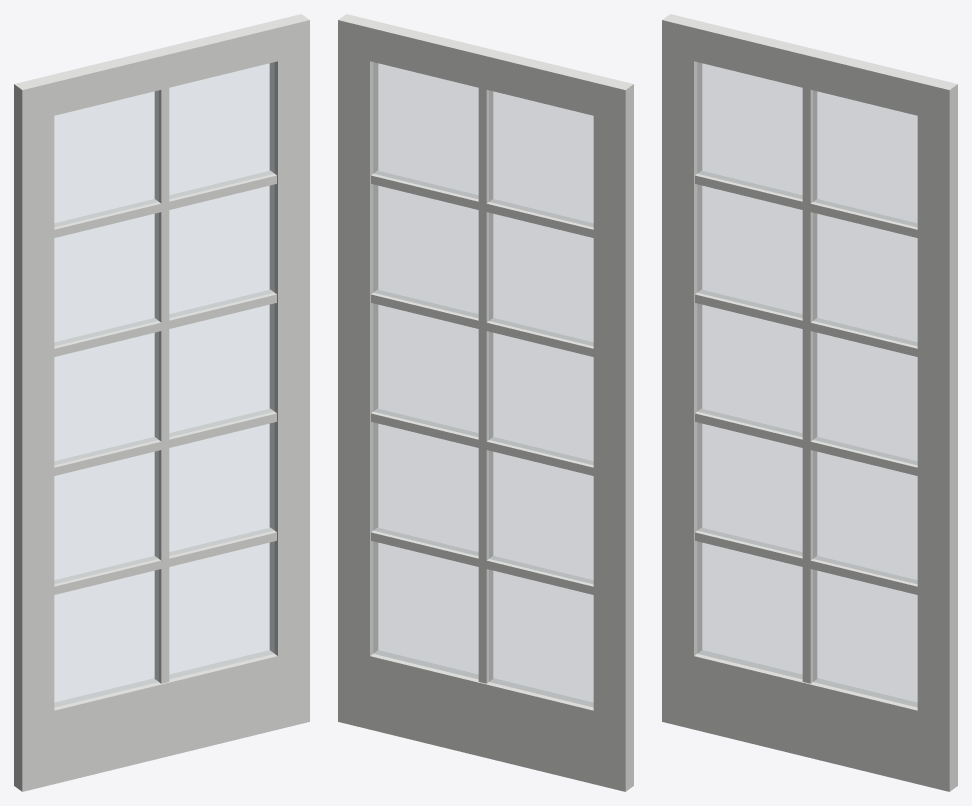
The model's file is mlo_door_french_white.glb.
The picture shows the model from 3 angles, left to right: view 1: azimuth 30°, elevation 25°; view 2: azimuth 150°, elevation 25°; view 3: azimuth 330°, elevation 25°; orthographic projection.
Parts seen in each view (by area): view 1: Door_French_White; view 2: Door_French_White; view 3: Door_French_White.
Part boxes in pixels (bbox=[...]): Door_French_White: bbox=[14, 14, 309, 791]; Door_French_White: bbox=[338, 14, 633, 791]; Door_French_White: bbox=[662, 14, 957, 791].
Bounding box in the file's own units: 0.9 × 2.1 × 0.045.
